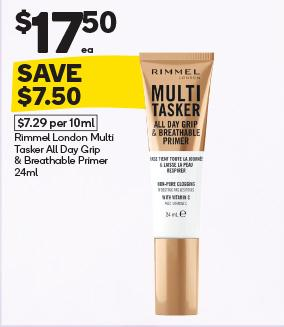description_block: (9, 133, 120, 181)
product_image_block: (125, 48, 224, 319)
promo_text_block: (4, 53, 137, 112)
unit_price_block: (8, 113, 106, 133)
